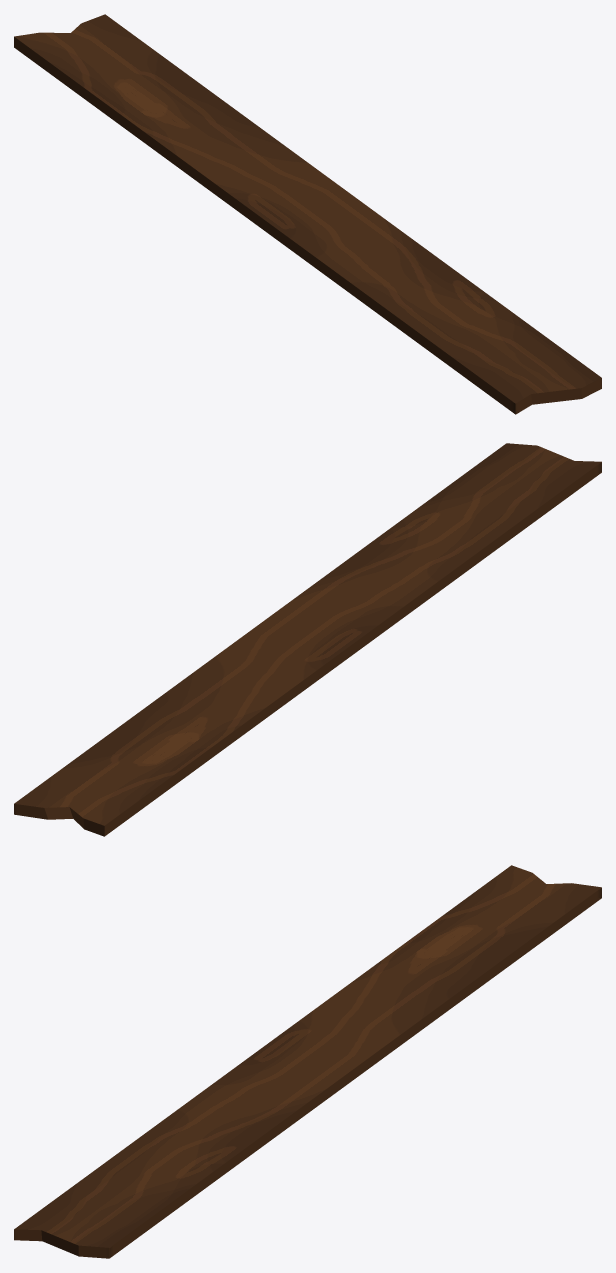
Rendered from FloorBoard-1.fbx.
The picture shows the model from 3 angles, top to bottom: view 1: azimuth 30°, elevation 25°; view 2: azimuth 150°, elevation 25°; view 3: azimuth 330°, elevation 25°; orthographic projection.
Visible parts, largest first — view 1: FloorBoard-1; view 2: FloorBoard-1; view 3: FloorBoard-1.
Boxes of the visible parts, x1,y1,x2,y2 form: FloorBoard-1: [14, 14, 601, 414]; FloorBoard-1: [14, 443, 601, 836]; FloorBoard-1: [14, 865, 601, 1258].
Bounding box in the file's own units: 200 × 22.92 × 1906.
1 material, 1 textured.
